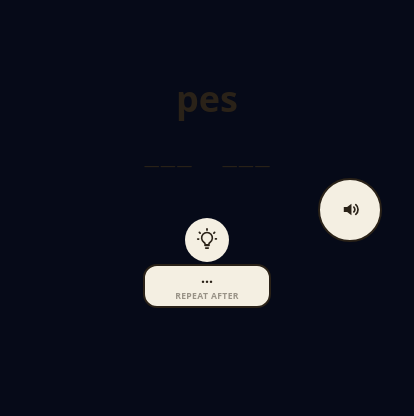
Test: TypingStudyCard › plays the word audio after checking only when enabled
The image size is (414, 416).
Type "conchó" into the field.
click(207, 167); type("conchó")  # box [136,129,278,206]
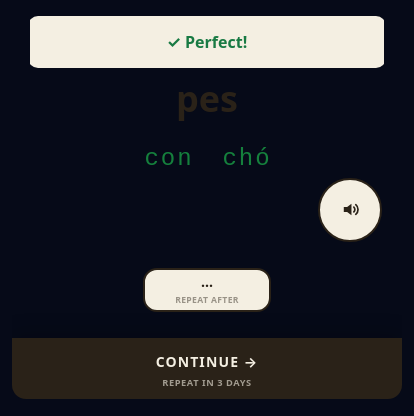
Check: the text "✓ Perfect!" is shown, box [30,16,384,68]
